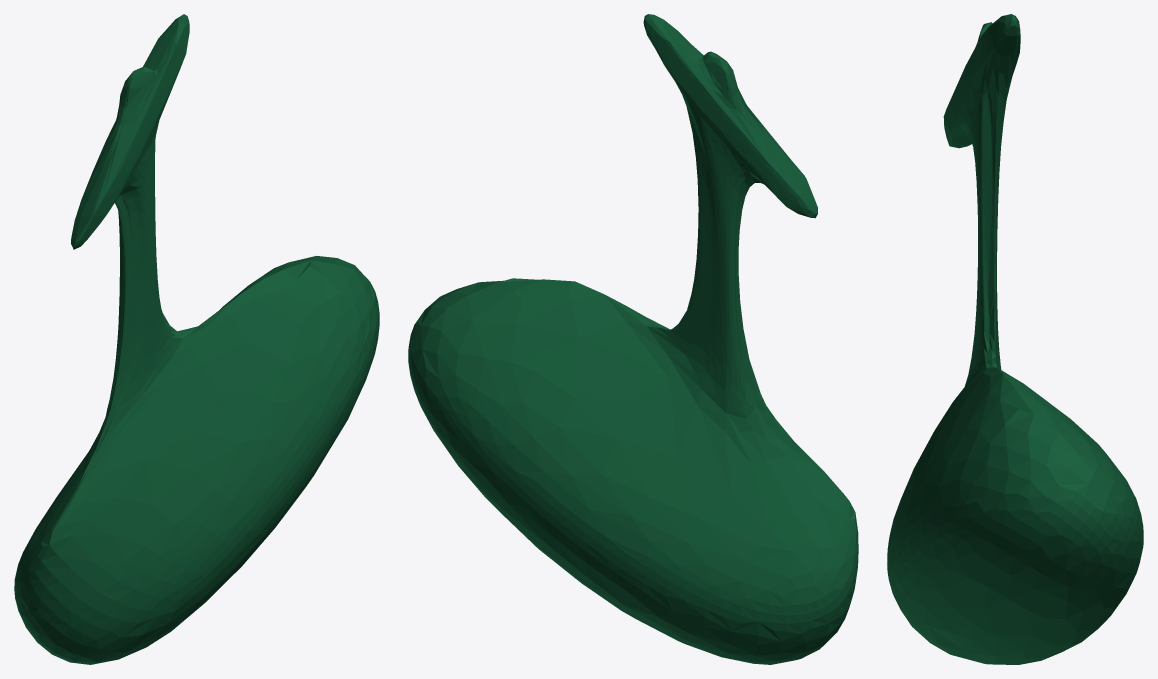
3 views of the same model, side by side, from view 1: azimuth 30°, elevation 25°; view 2: azimuth 150°, elevation 25°; view 3: azimuth 270°, elevation 25° (orthographic). The views are drawn at different scales.
Parts seen in each view (by area): view 1: 387_Cube.1575; view 2: 387_Cube.1575; view 3: 387_Cube.1575.
Part boxes in pixels (box(x1,y1,x2,y2)): 387_Cube.1575: box(14, 14, 379, 664); 387_Cube.1575: box(408, 14, 858, 664); 387_Cube.1575: box(887, 14, 1143, 664).
Bounding box in the file's own units: 9.02 × 13.62 × 4.6.
